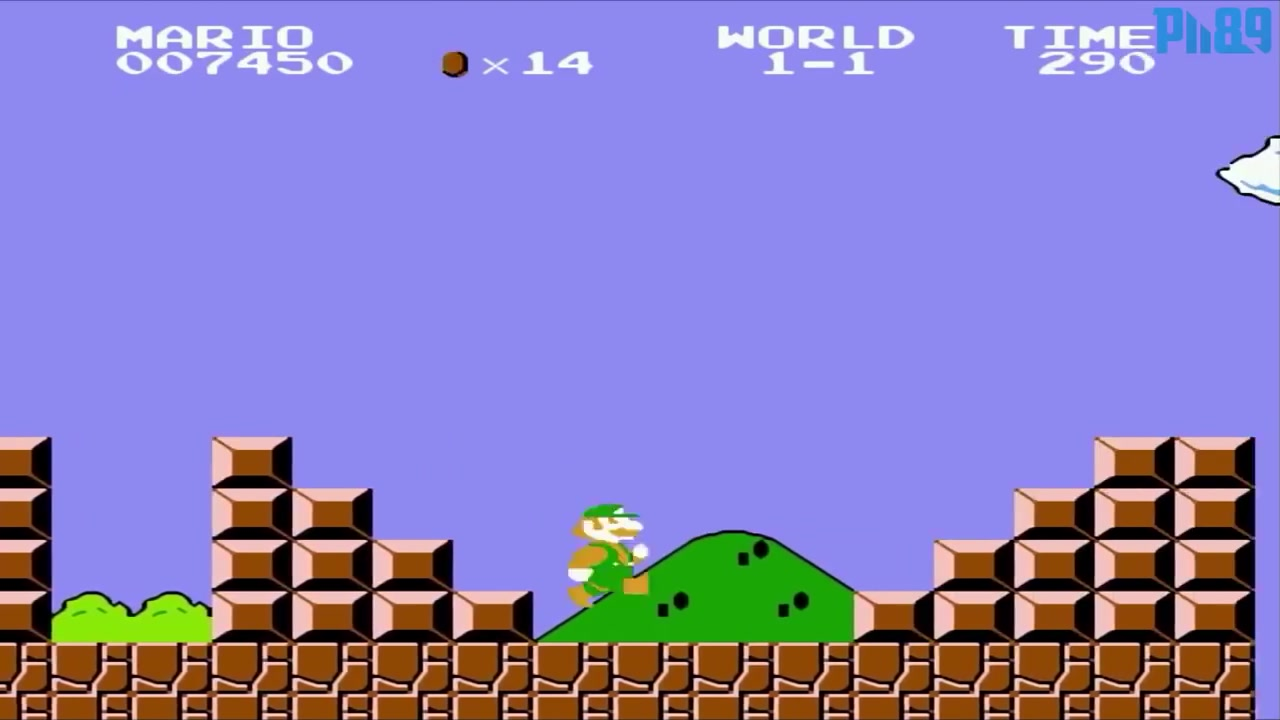mario: (563, 494, 652, 613)
